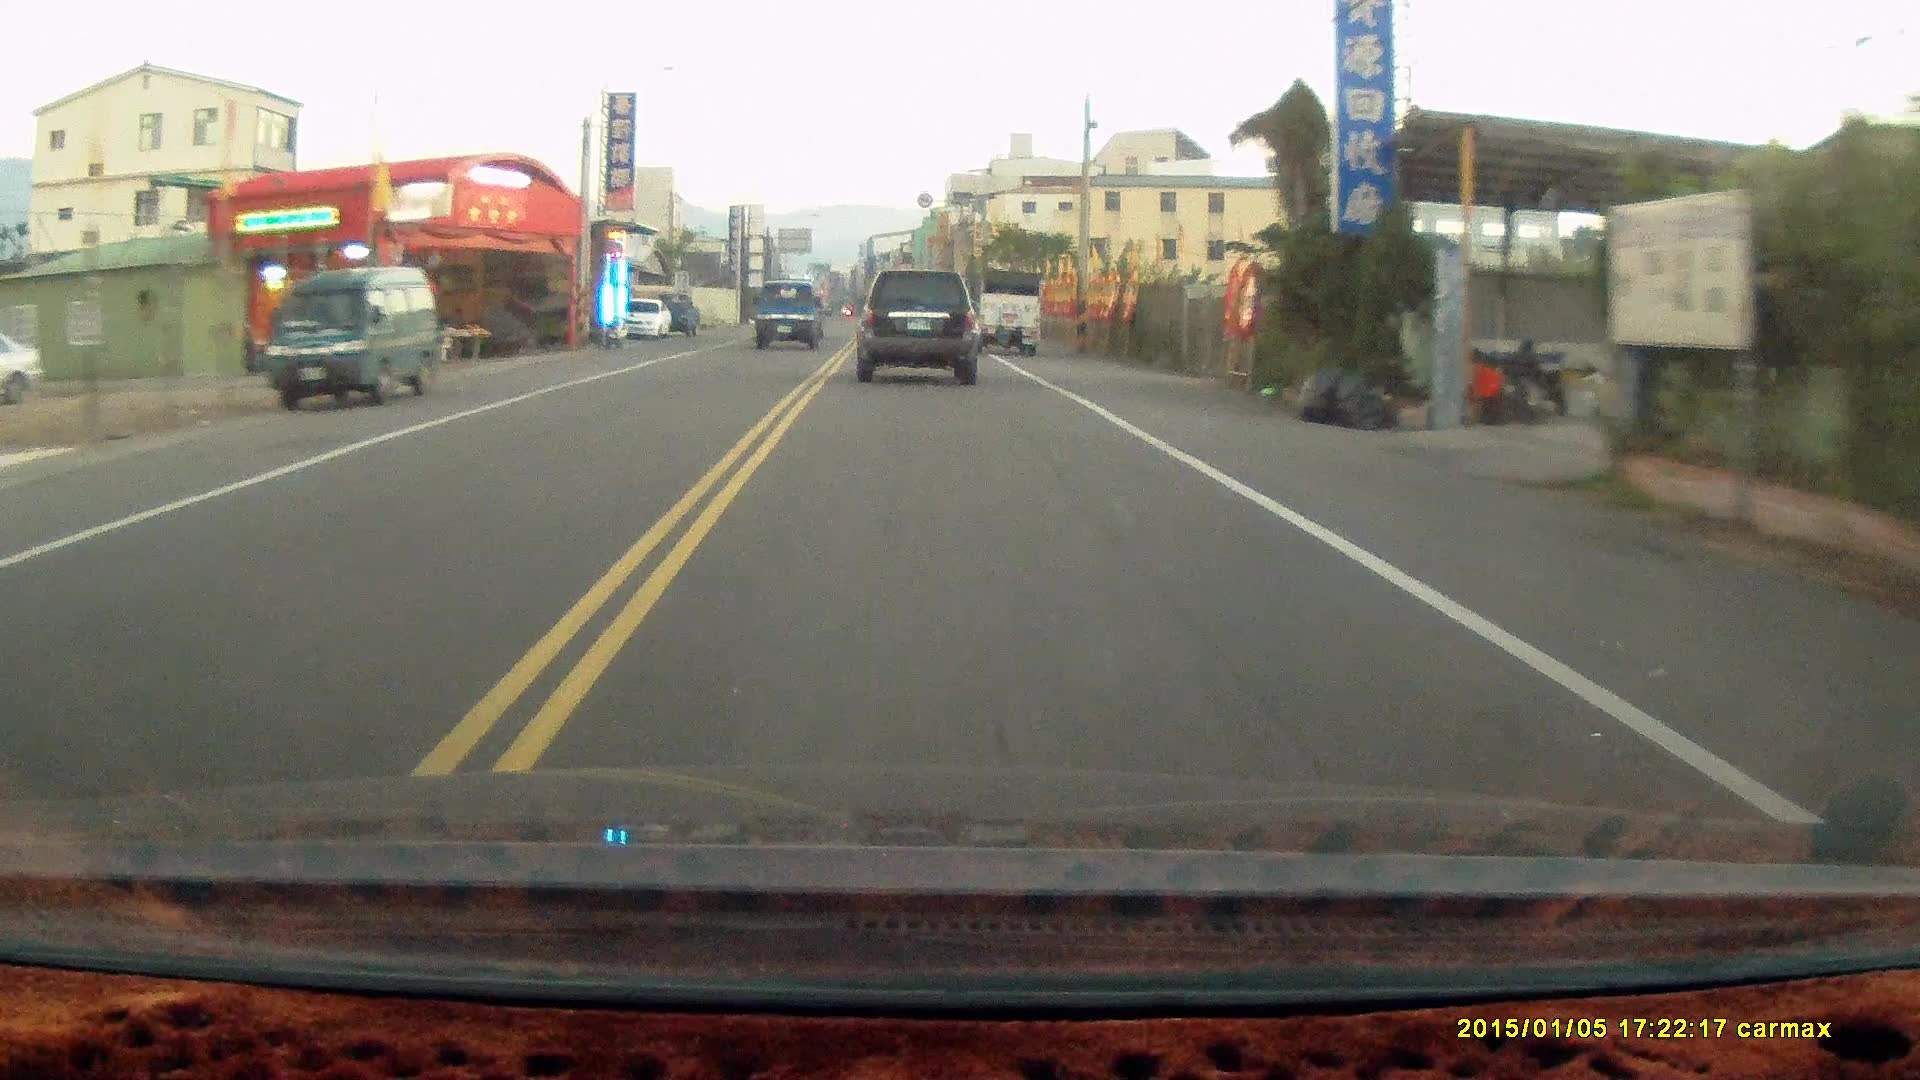vehicle: (264, 264, 444, 411), (858, 266, 981, 381), (952, 266, 1044, 356), (756, 284, 828, 356), (1, 316, 42, 407), (612, 295, 674, 342)
